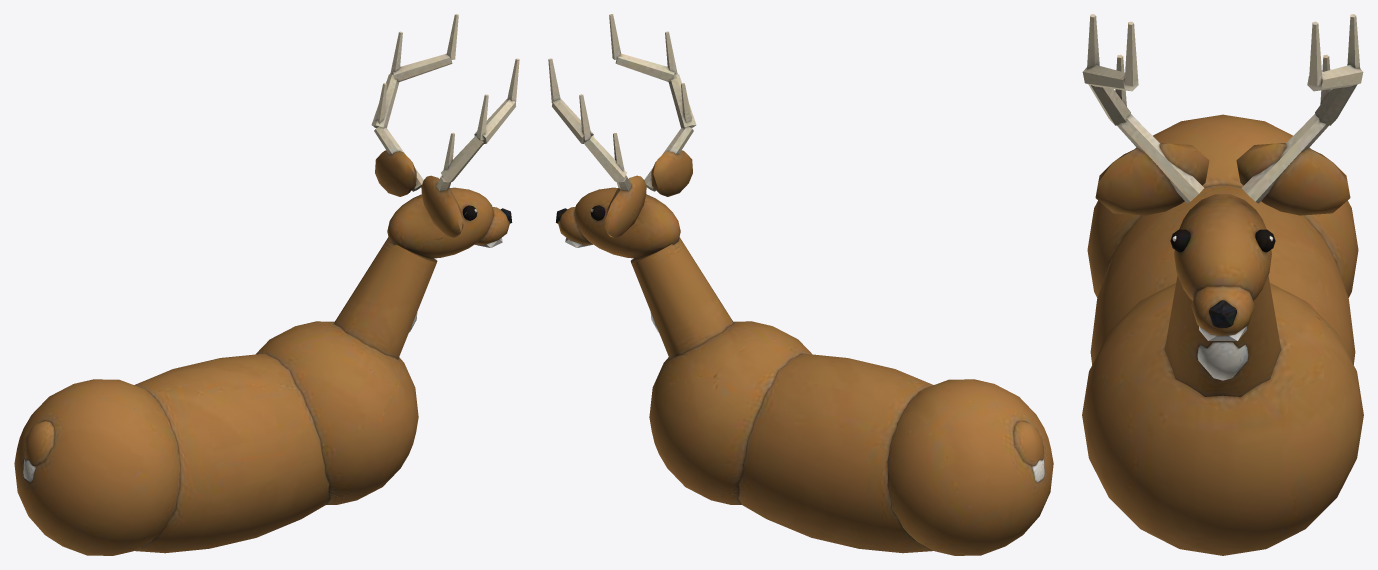
The model's file is ciervo.glb.
3 views of the same model, side by side, from view 1: azimuth 30°, elevation 25°; view 2: azimuth 150°, elevation 25°; view 3: azimuth 270°, elevation 25° (orthographic). The views are drawn at different scales.
Parts seen in each view (by area): view 1: ciervo; view 2: ciervo; view 3: ciervo.
Boxes of the visible parts, x1=… form: ciervo: x1=14, y1=14, x2=519, y2=555; ciervo: x1=548, y1=14, x2=1053, y2=555; ciervo: x1=1082, y1=14, x2=1363, y2=555.
Bounding box in the file's own units: 1.57 × 1.34 × 0.52.
1 material, 1 textured.
